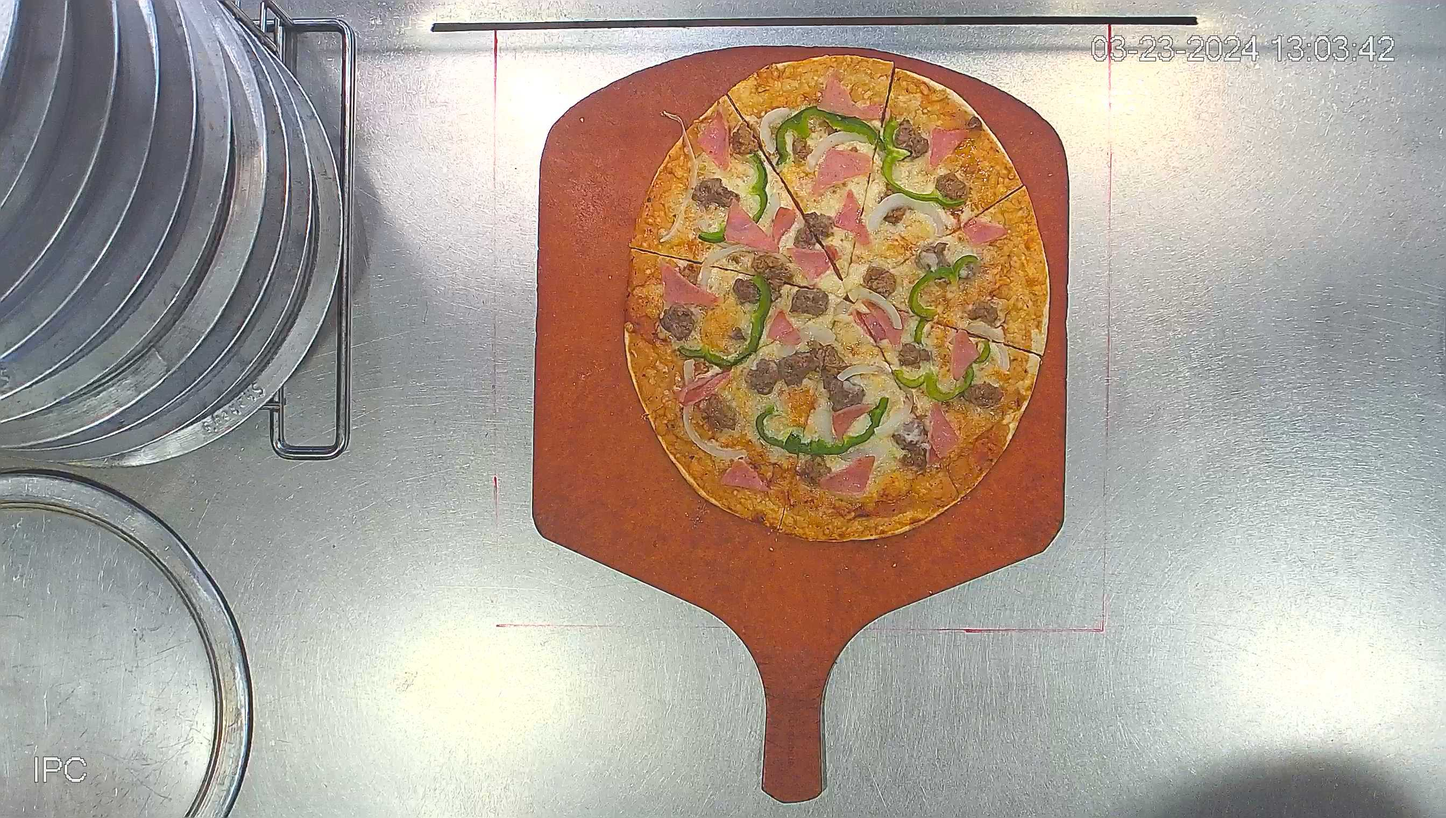hawaiian: (626, 53, 1048, 542)
